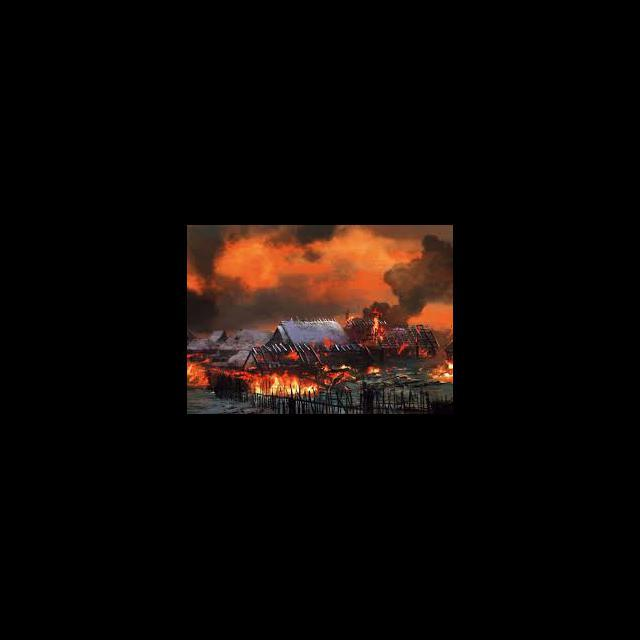Fire: (188, 353, 314, 401), (318, 367, 356, 388), (366, 304, 384, 344), (430, 356, 452, 384), (365, 362, 386, 377), (394, 343, 410, 357), (418, 345, 431, 359), (321, 336, 334, 348), (322, 352, 332, 362)
Smoke: (388, 234, 453, 314), (279, 226, 342, 243)
